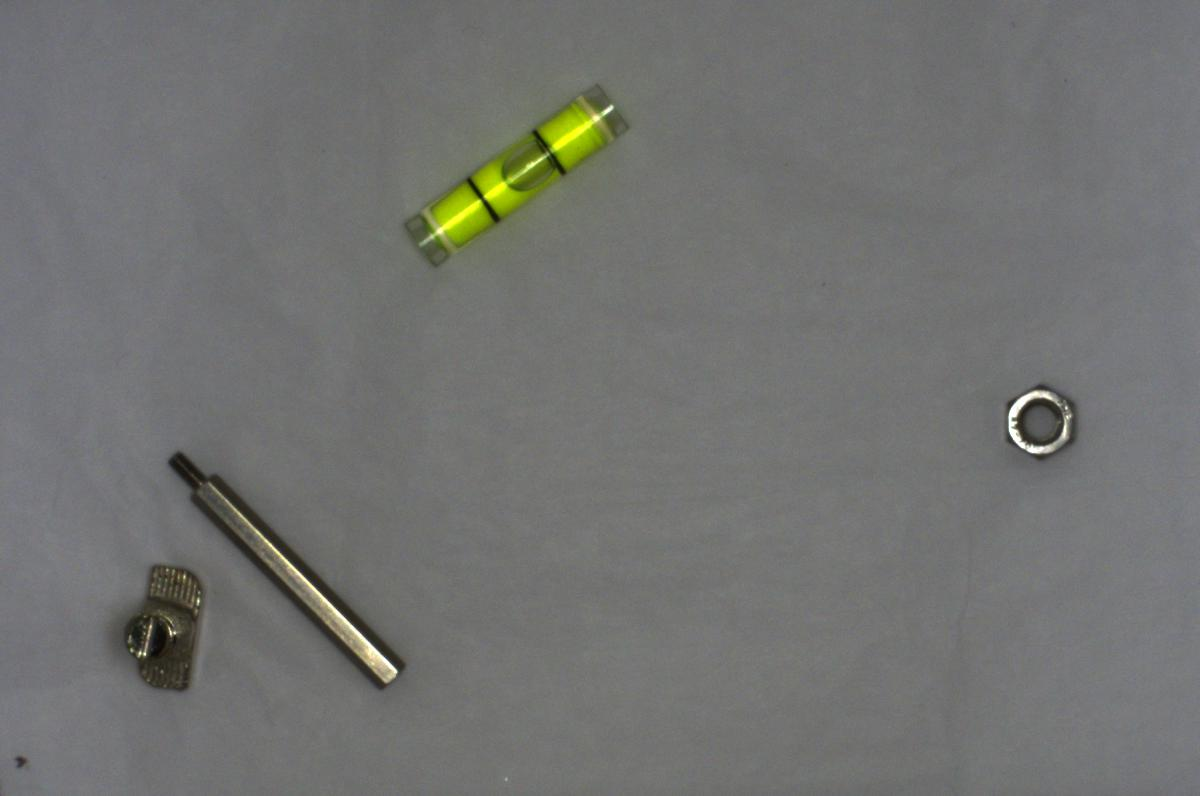Hexagon nut: (992, 372, 1077, 466)
Hexagonal steel column: (165, 445, 408, 695)
Horizontal bubble: (385, 73, 631, 270)
T-shaped screw: (117, 550, 218, 700)
